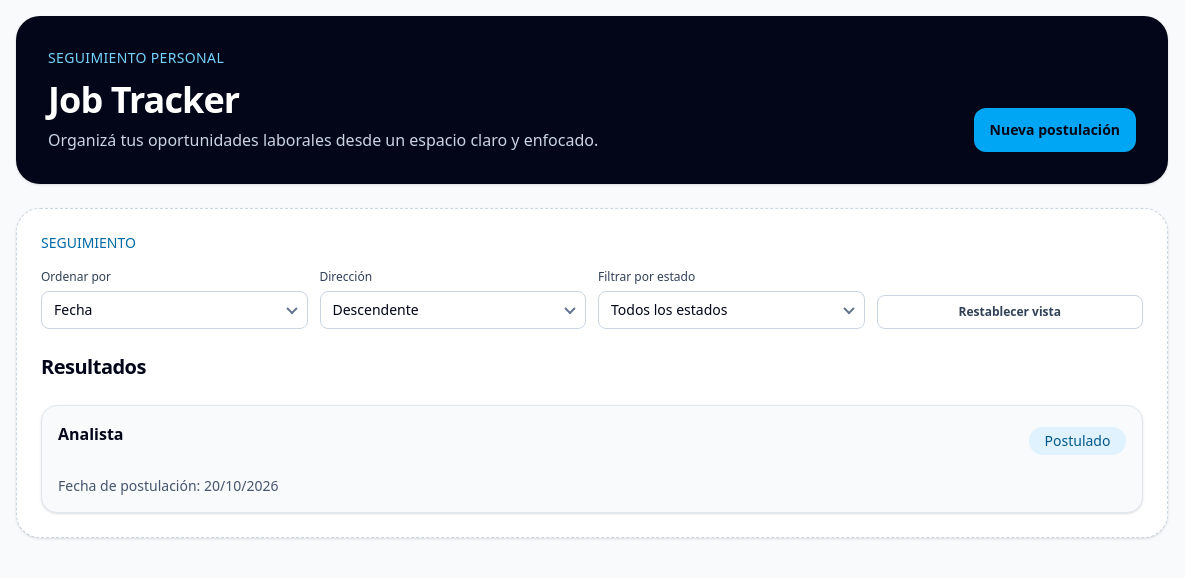
Test case: App › explains an empty filtered view and clears the filter
Step 1. Select "Oferta" in the dropdown labelled "Filtrar por estado" → point(731, 310), box [598, 291, 864, 329]
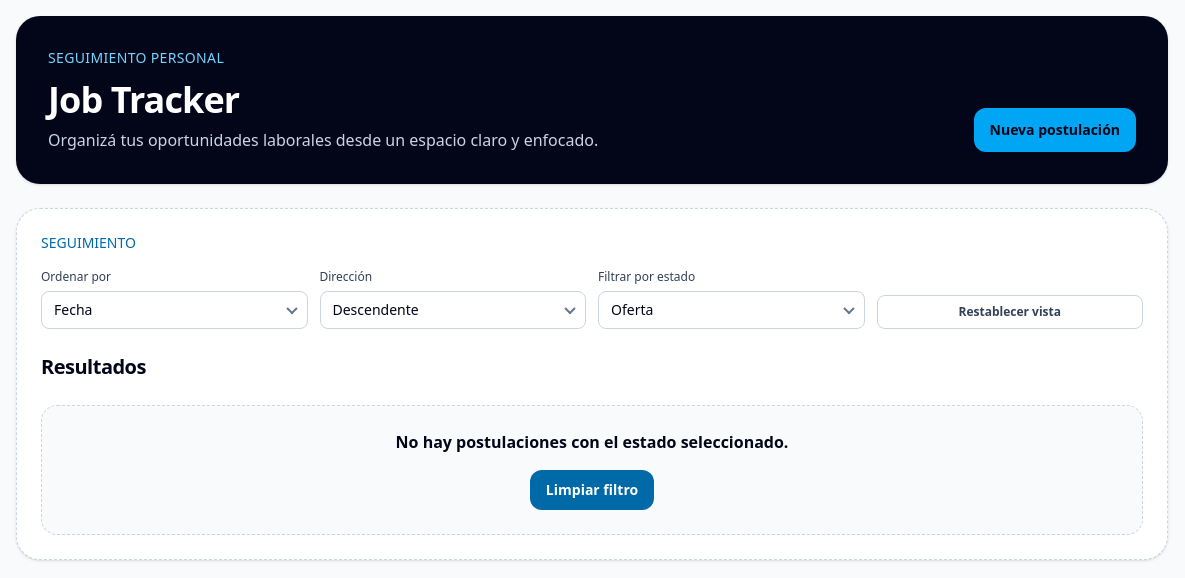
Result: the text "No hay postulaciones con el estado seleccionado." is shown at [396, 431, 788, 453]
Step 2. Click the button "Limpiar filtro" → point(592, 490), box [530, 470, 654, 510]
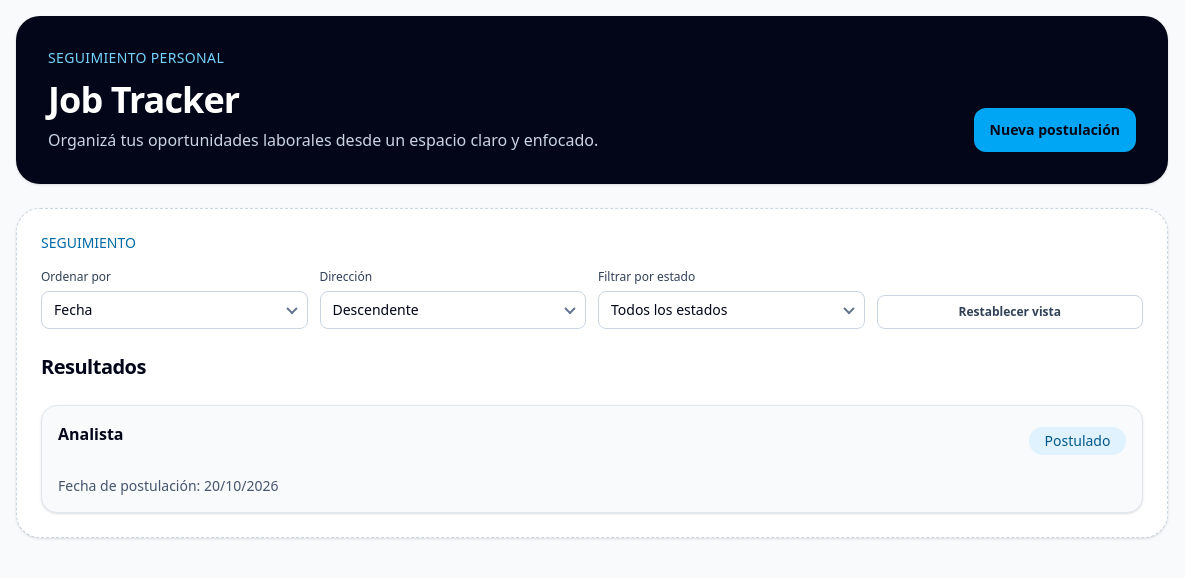
Result: the list item shows "Analista" at [58, 423, 124, 445]
